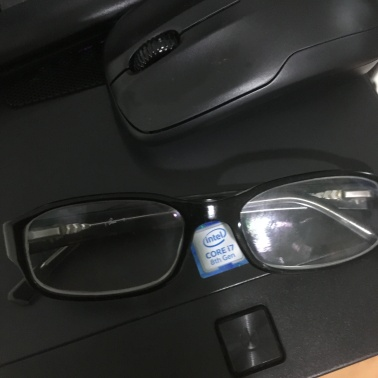glasses: (12, 188, 375, 289)
